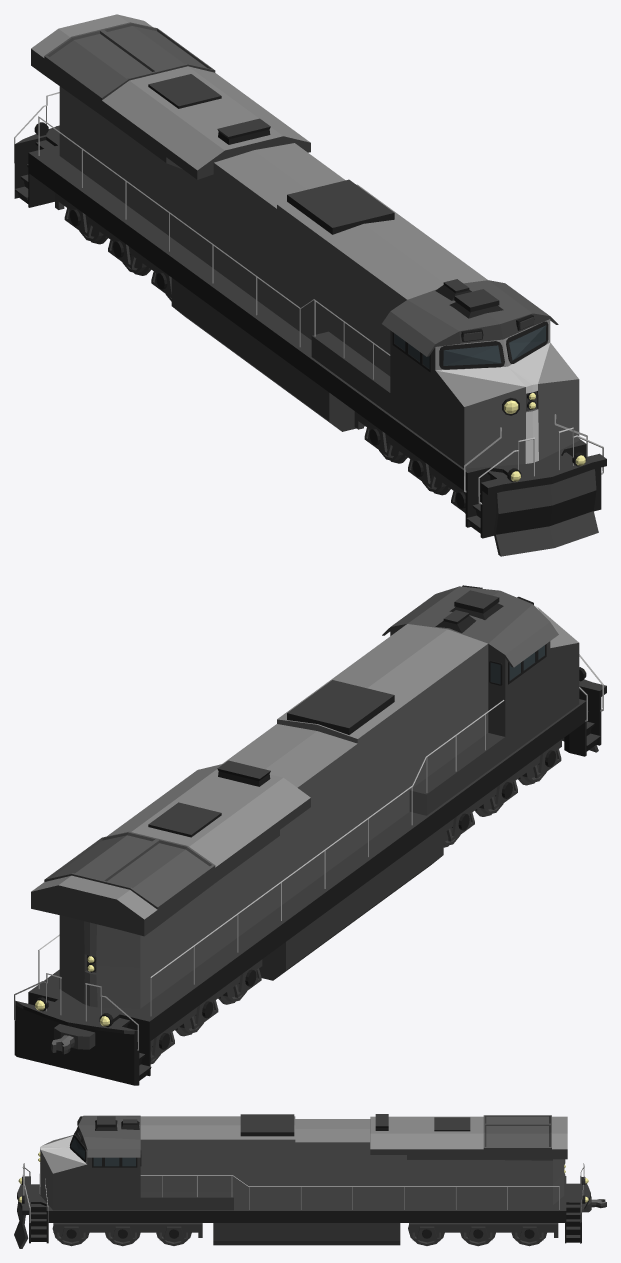
File: SM_Vehicle_Train_Locomotive.fbx
3 renders of one model, top to bottom at view 1: azimuth 30°, elevation 25°; view 2: azimuth 150°, elevation 25°; view 3: azimuth 270°, elevation 25°, orthographic. The views are drawn at different scales.
Parts seen in each view (by area): view 1: SM_Vehicle_Train_Locomotive; view 2: SM_Vehicle_Train_Locomotive; view 3: SM_Vehicle_Train_Locomotive.
Boxes of the visible parts, bbox=[...] form: SM_Vehicle_Train_Locomotive: bbox=[14, 14, 606, 556]; SM_Vehicle_Train_Locomotive: bbox=[14, 585, 606, 1085]; SM_Vehicle_Train_Locomotive: bbox=[14, 1114, 606, 1248].
Size of the model in its own units: 363 by 521 by 2379.
